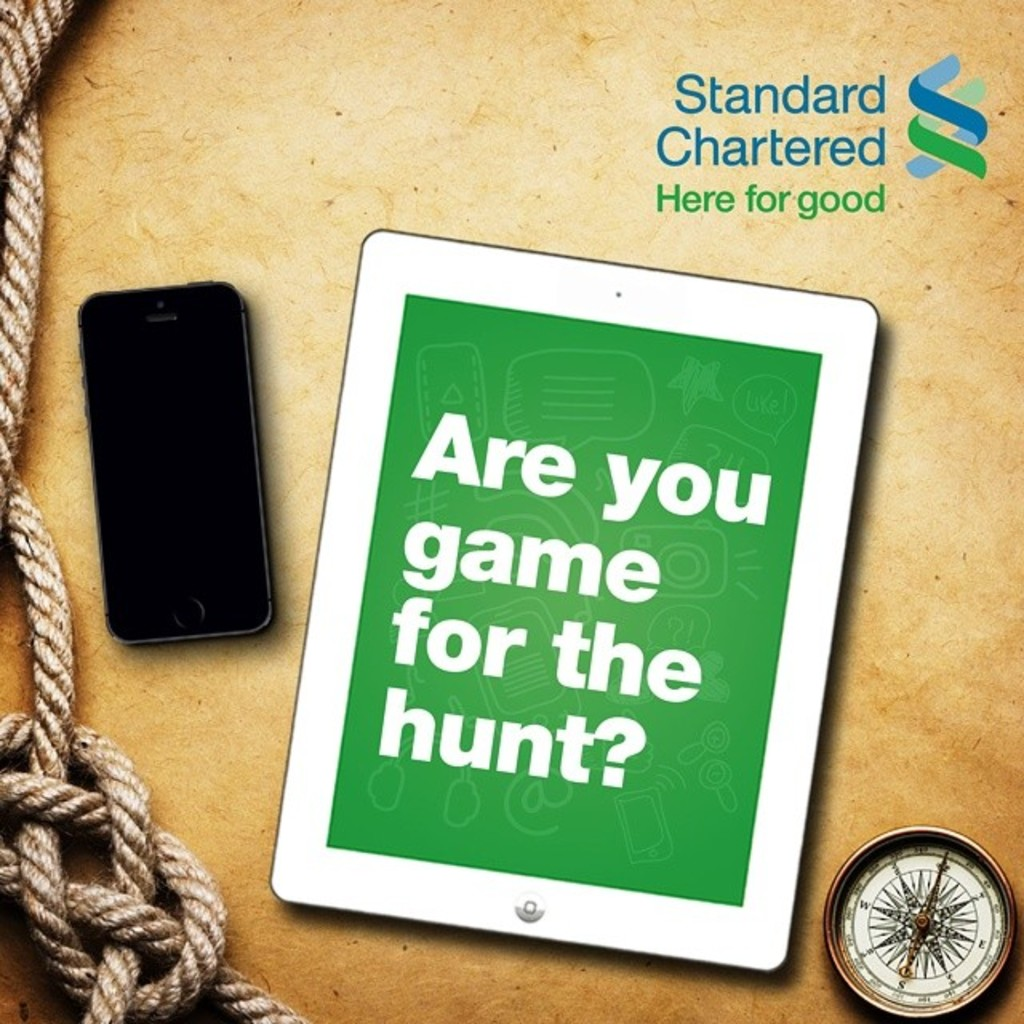Mobile-phone: (70, 277, 280, 645)
